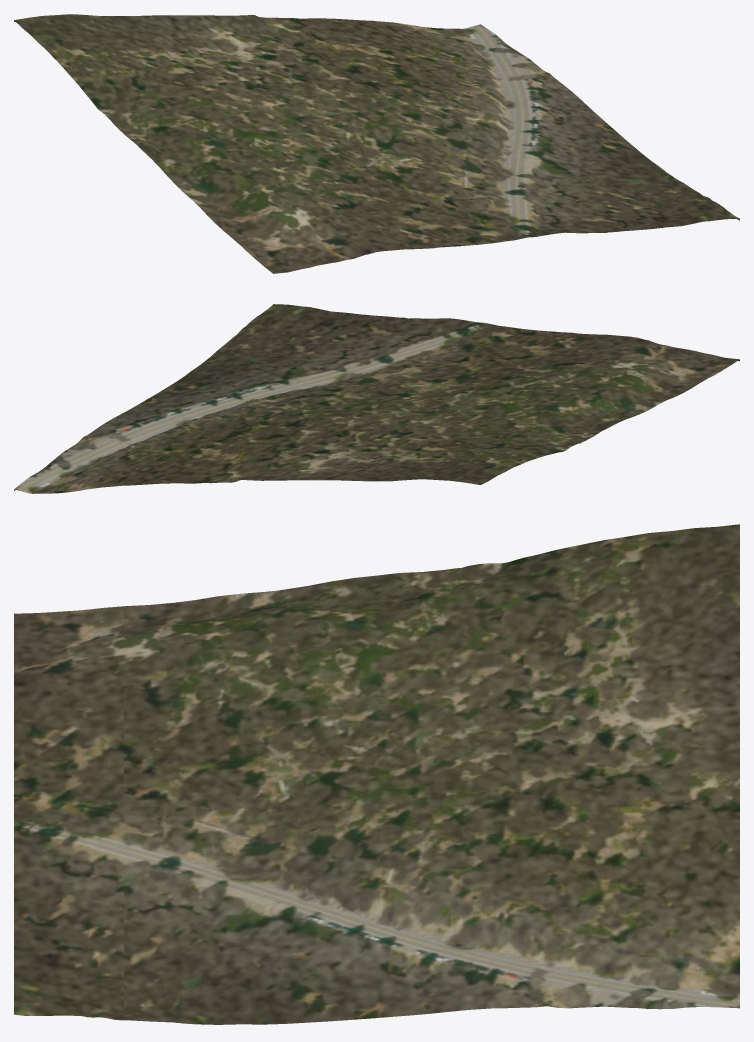
3 renders of one model, top to bottom at view 1: azimuth 30°, elevation 25°; view 2: azimuth 150°, elevation 25°; view 3: azimuth 270°, elevation 25°, orthographic. The views are drawn at different scales.
Size of the model in its own units: 250 by 67.53 by 241.
Materials: 1 (1 with a texture image).
